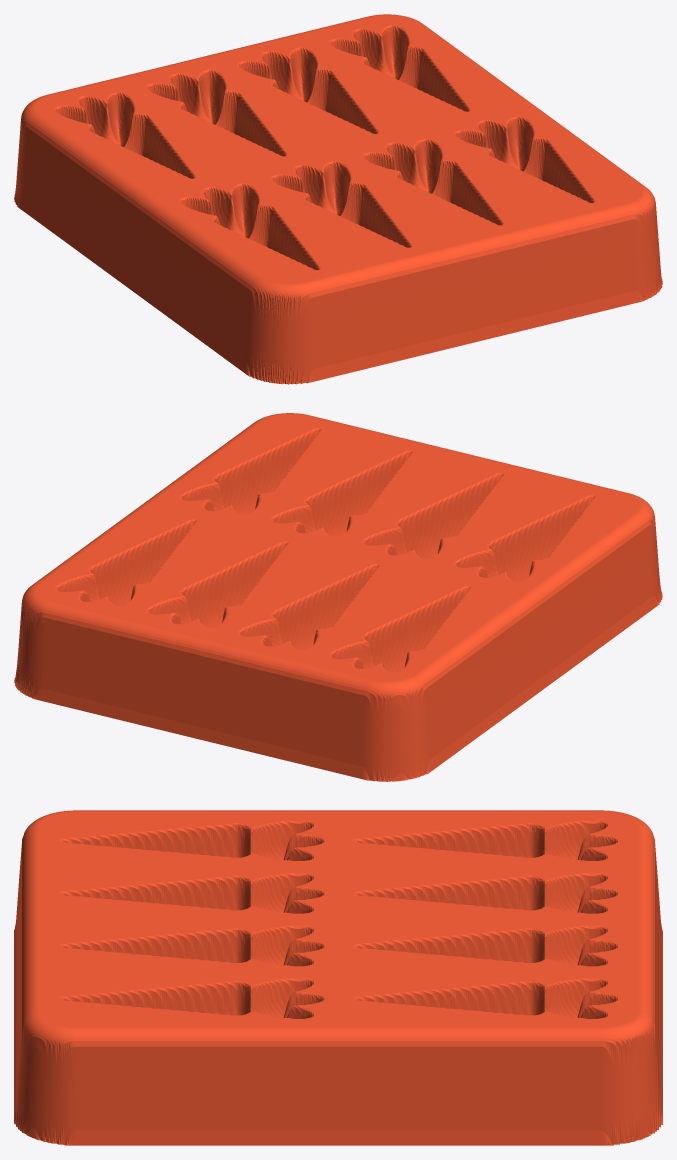
The model's file is mold.glb.
3 views of the same model, one above another, from view 1: azimuth 30°, elevation 25°; view 2: azimuth 150°, elevation 25°; view 3: azimuth 270°, elevation 25° (orthographic). The views are drawn at different scales.
Visible parts, largest first — view 1: geometry_0; view 2: geometry_0; view 3: geometry_0.
Boxes of the visible parts, x1,y1,x2,y2 form: geometry_0: [14, 14, 662, 384]; geometry_0: [14, 413, 662, 781]; geometry_0: [14, 810, 662, 1145].
Bounding box in the file's own units: 0.0824 × 0.0175 × 0.0956.
